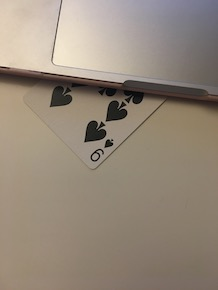NineOfSpades: (18, 74, 179, 172)
